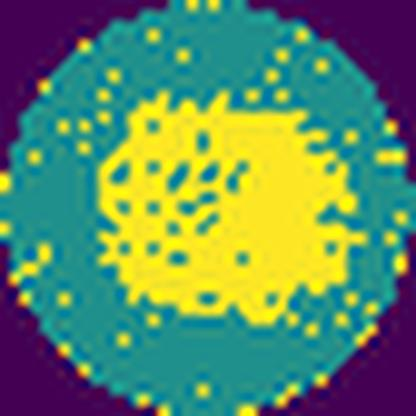Center: (96, 89, 354, 326)
